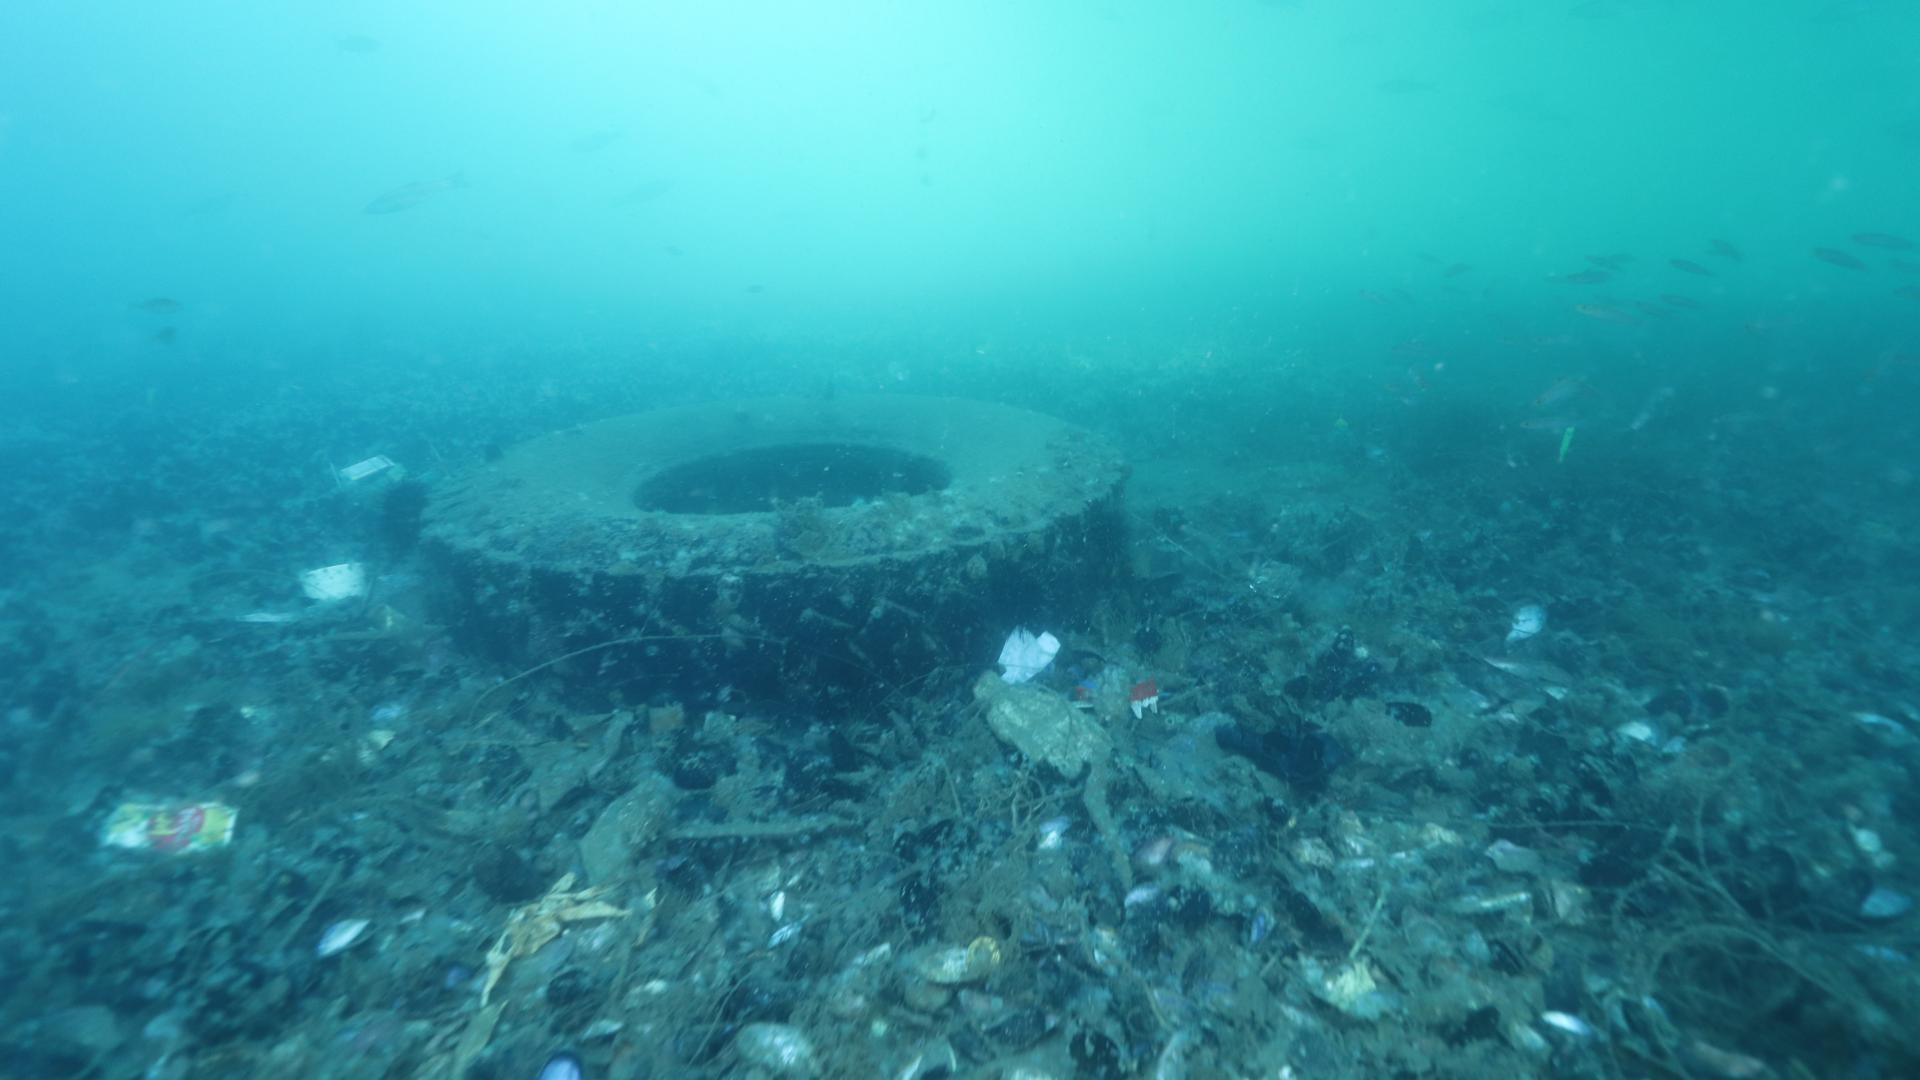tire: (417, 396, 1130, 709)
